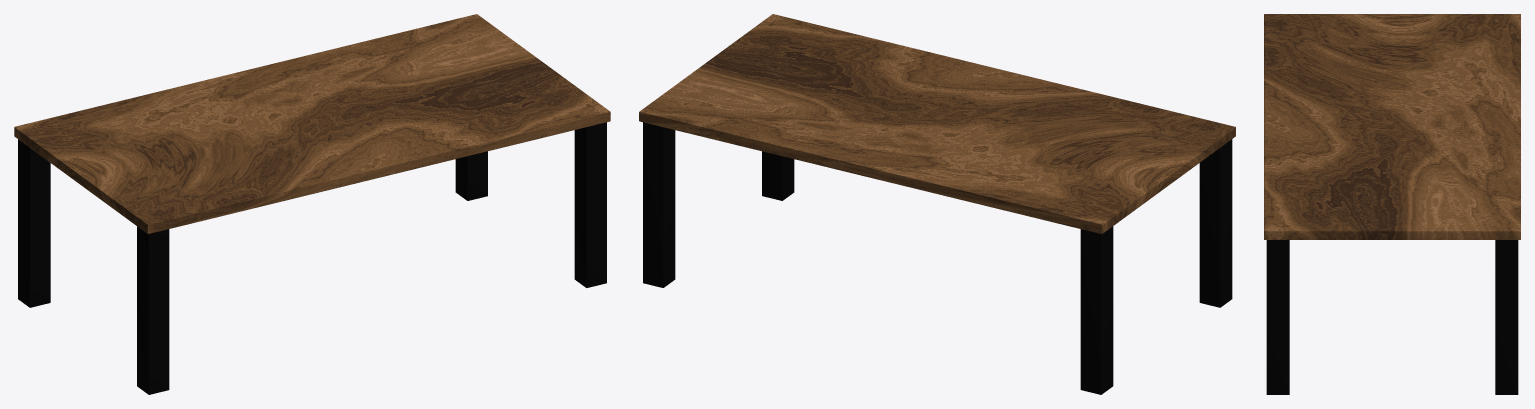
The model's file is table2.obj.
The picture shows the model from 3 angles, left to right: view 1: azimuth 30°, elevation 25°; view 2: azimuth 150°, elevation 25°; view 3: azimuth 270°, elevation 25°; orthographic projection. The views are drawn at different scales.
Visible parts, largest first — view 1: wood_plank.1, leg.003, leg, leg.002, leg.001; view 2: wood_plank.1, leg.002, leg.001, leg.003, leg; view 3: wood_plank.1, leg.001, leg.
Boxes of the visible parts, x1,y1,x2,y2 form: wood_plank.1: [14, 14, 610, 233]; leg.003: [137, 226, 169, 394]; leg: [574, 122, 606, 287]; leg.002: [18, 139, 50, 307]; leg.001: [455, 151, 487, 200]; wood_plank.1: [639, 14, 1235, 234]; leg.002: [1080, 226, 1113, 394]; leg.001: [643, 122, 675, 287]; leg.003: [1199, 139, 1232, 307]; leg: [762, 151, 794, 200]; wood_plank.1: [1264, 14, 1520, 239]; leg.001: [1495, 240, 1518, 394]; leg: [1266, 240, 1289, 394].
Size of the model in its own units: 2 by 0.71 by 1.
2 materials, 1 textured.
